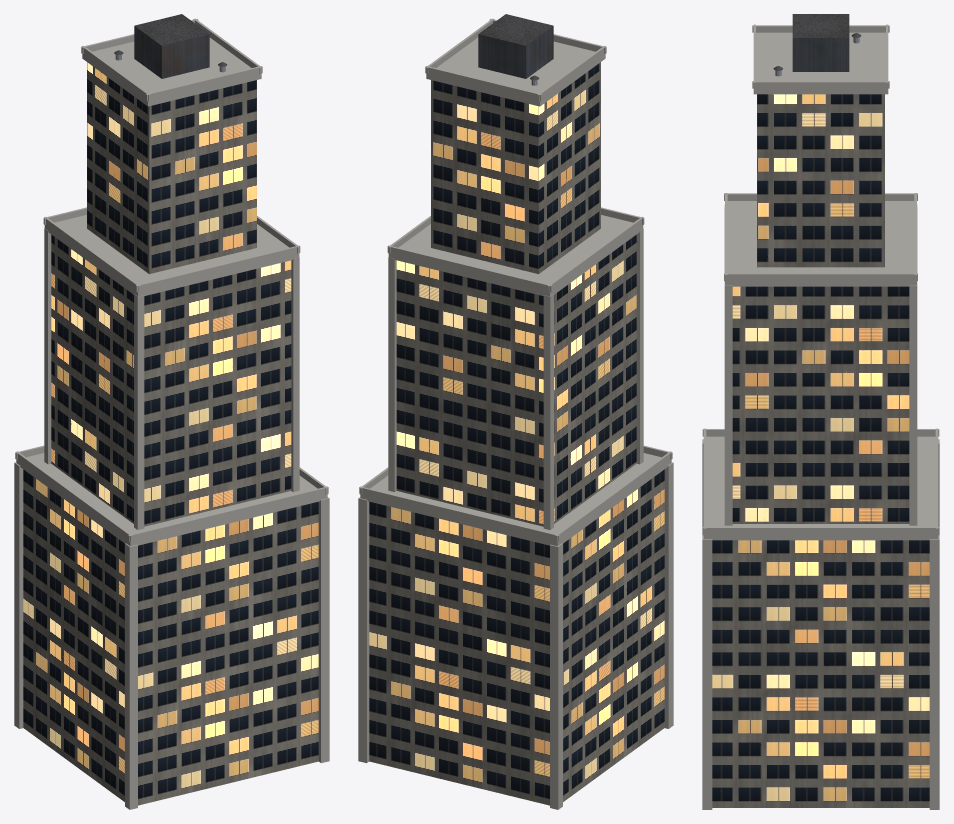
The model's file is building_01.glb.
3 renders of one model, left to right at view 1: azimuth 30°, elevation 25°; view 2: azimuth 150°, elevation 25°; view 3: azimuth 270°, elevation 25°, orthographic. The views are drawn at different scales.
Visible parts, largest first — view 1: Render; view 2: Render; view 3: Render.
Boxes of the visible parts, <box> form: Render: <box>14,14,329,809</box>; Render: <box>358,14,673,809</box>; Render: <box>702,14,939,809</box>.
Bounding box in the file's own units: 33.4 × 114 × 33.4.
6 materials, 3 textured.
